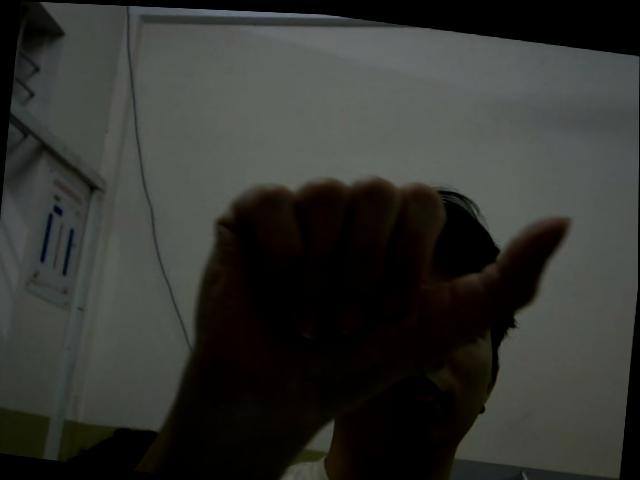A: (187, 150, 572, 427)
